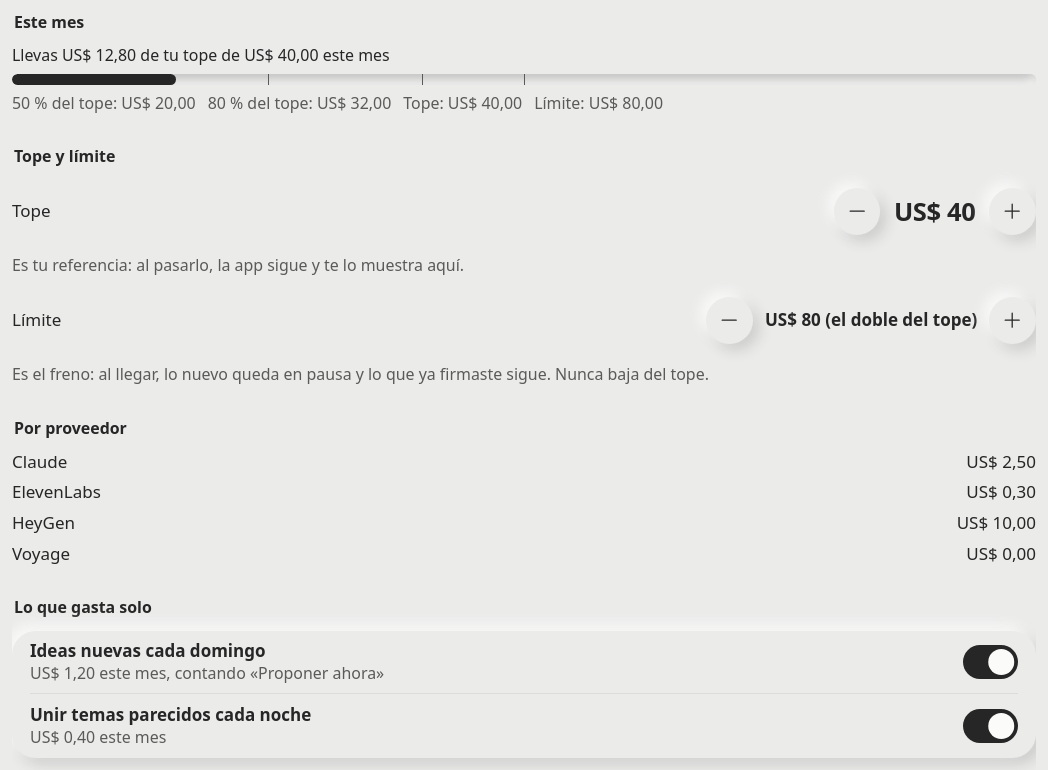
Test: PantallaDePresupuesto › moves the cap in steps of 5 and saves once, after she stops tapping
Click the button named "Subir el tope". click: x=1013, y=212
box: [989,188,1036,235]
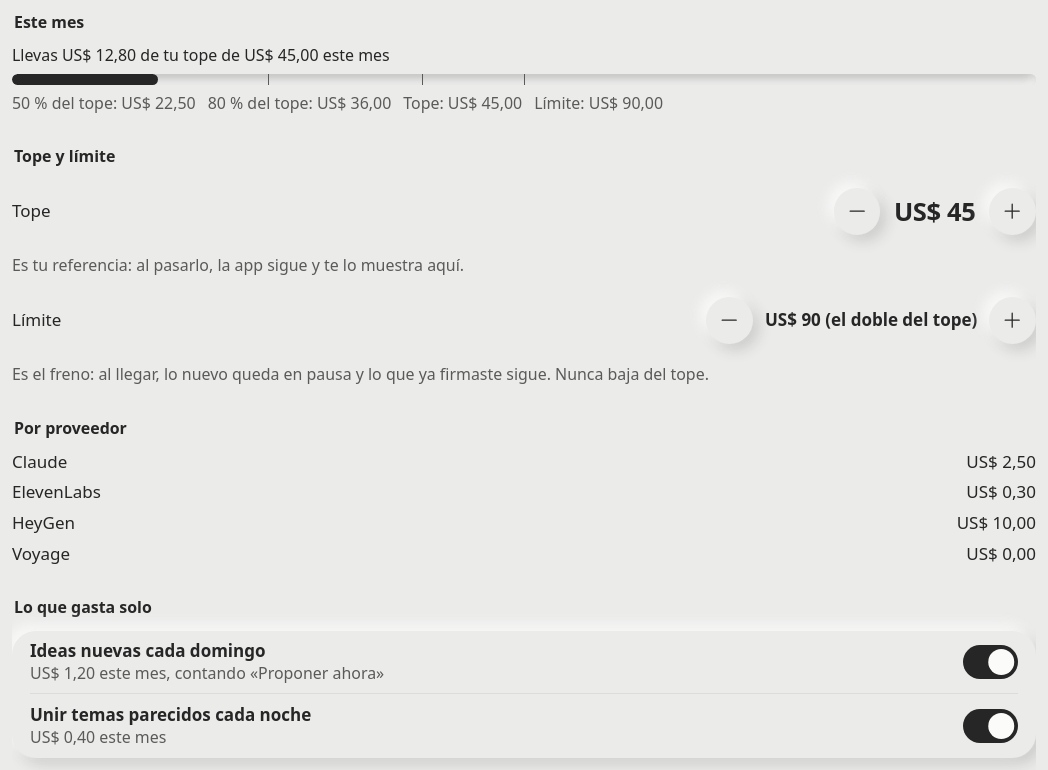
Click the button named "Subir el tope". click: x=1013, y=212
box: [989,188,1036,235]
Wait 800 ms
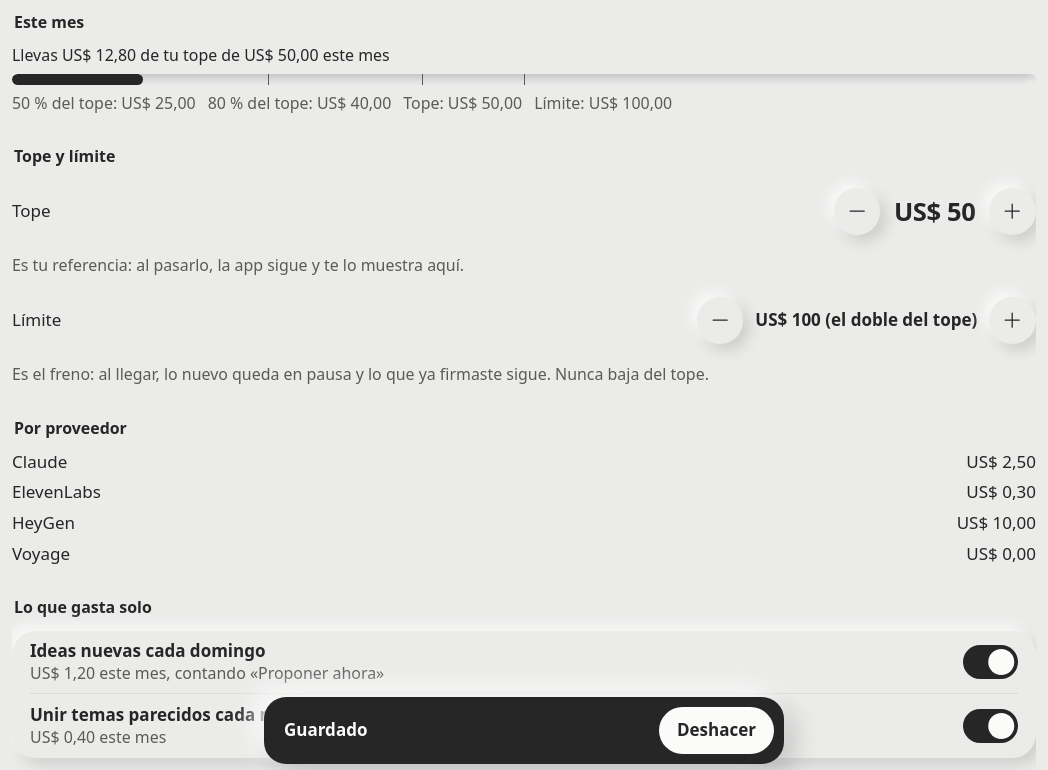
expect the text "US$ 50" is shown: met, box [892,197,977,226]
expect the text "US$ 100 (el doble del tope)" is shown: met, box [755,309,977,332]
